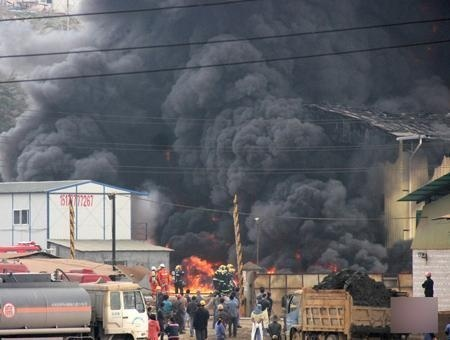fire: (178, 257, 216, 291)
